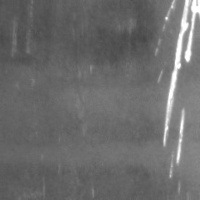scratches: (155, 0, 200, 145), (169, 104, 191, 168)
